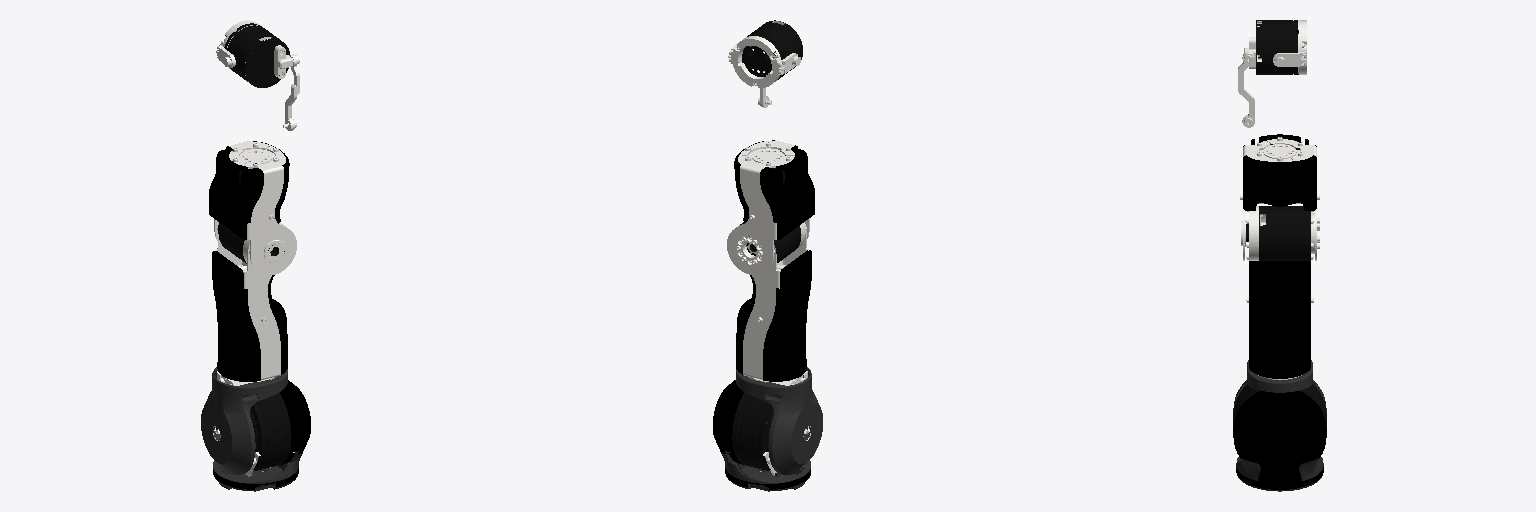
The robot description file, URDF, robot "openarm":
<?xml version="1.0" ?>
<!-- =================================================================================== -->
<!-- |    This document was autogenerated by xacro from v10.urdf.xacro                 | -->
<!-- |    EDITING THIS FILE BY HAND IS NOT RECOMMENDED                                 | -->
<!-- =================================================================================== -->
<robot name="openarm">
  <!-- arm_type: Namespace of the robot arm. Serves to differentiate between arms in case of multiple instances. -->
  <!-- joint_limits: description of the joint limits that comes from a YAML file. Example definition: ${xacro.load_yaml('$(find openarm_description)/robots/fr3/joint_limits.yaml')} -->
  <!-- kinematics: description of the kinematics that comes from a YAML file. Example definition: ${xacro.load_yaml('$(find openarm_description)/robots/fr3/kinematics.yaml')} -->
  <!-- inertials: description of the inertials that comes from a YAML file. Example definition: ${xacro.load_yaml('$(find openarm_description)/robots/fr3/inertials.yaml')} -->
  <link name="base">
      </link>
  <joint name="v10_base_joint" type="fixed">
    <parent link="base"/>
    <child link="v10_link0"/>
    <origin rpy="0 0 0" xyz="0 0 0"/>
  </joint>
  <link name="v10_link0">
    <visual name="v10_link0_visual">
      <origin rpy="0 0 0" xyz="0.0 0.0 0.0"/>
      <geometry>
        <mesh filename="package://openarm_description/meshes/arm/v10/visual/link0.dae" scale="0.001 0.001 0.001"/>
      </geometry>
    </visual>
    <collision name="v10_link0_collision">
      <origin rpy="0 0 0" xyz="0.0 0.0 0.0"/>
      <geometry>
        <mesh filename="package://openarm_description/meshes/arm/v10/collision/link0.stl" scale="0.001 0.001 0.001"/>
      </geometry>
    </collision>
    <inertial>
      <origin rpy="0.0, 0.0, 0.0" xyz="-0.0010128150688448064, 0.00011921310475708836, -0.03180504460041544"/>
      <mass value="1.1999"/>
      <inertia ixx="0.001184" ixy="-5e-06" ixz="-3.5e-05" iyy="0.00101" iyz="-8e-06" izz="0.001542"/>
    </inertial>
  </link>
  <link name="v10_link1">
    <visual name="v10_link1_visual">
      <origin rpy="0 0 0" xyz="6.4e-05 3.9e-05 7.4e-05"/>
      <geometry>
        <mesh filename="package://openarm_description/meshes/arm/v10/visual/link1.dae" scale="0.001 0.001 0.001"/>
      </geometry>
    </visual>
    <collision name="v10_link1_collision">
      <origin rpy="0 0 0" xyz="6.4e-05 3.9e-05 7.4e-05"/>
      <geometry>
        <mesh filename="package://openarm_description/meshes/arm/v10/collision/link1.stl" scale="0.001 0.001 0.001"/>
      </geometry>
    </collision>
    <inertial>
      <origin rpy="0.0, 0.0, 0.0" xyz="-0.0012074754655398907, 3.2777381724620495e-05, 0.05528470264561512"/>
      <mass value="1.1001"/>
      <inertia ixx="0.001407" ixy="-1e-06" ixz="-1.1e-05" iyy="0.001051" iyz="-0.0" izz="0.000834"/>
    </inertial>
  </link>
  <joint name="v10_joint1" type="revolute">
    <origin rpy="0 0 0" xyz="-6.4e-05 -3.9e-05 -7.4e-05"/>
    <parent link="v10_link0"/>
    <child link="v10_link1"/>
    <axis xyz="0 0 1"/>
    <limit effort="100" lower="-1.396263" upper="3.490659" velocity="100"/>
    <!-- <safety_controller k_position="100.0"
                         k_velocity="40.0"
                         soft_lower_limit="${limits.lower}"
                         soft_upper_limit="${limits.upper}" /> -->
  </joint>
  <link name="v10_link2">
    <visual name="v10_link2_visual">
      <origin rpy="0 0 0" xyz="0.030164 7.5e-05 -0.059926"/>
      <geometry>
        <mesh filename="package://openarm_description/meshes/arm/v10/visual/link2.dae" scale="0.001 0.001 0.001"/>
      </geometry>
    </visual>
    <collision name="v10_link2_collision">
      <origin rpy="0 0 0" xyz="0.030164 7.5e-05 -0.059926"/>
      <geometry>
        <mesh filename="package://openarm_description/meshes/arm/v10/collision/link2.stl" scale="0.001 0.001 0.001"/>
      </geometry>
    </collision>
    <inertial>
      <origin rpy="0.0, 0.0, 0.0" xyz="0.01121664780902543, 1.3328249549549094e-05, 0.040881711980061415"/>
      <mass value="0.2518"/>
      <inertia ixx="0.000191" ixy="-0.0" ixz="-6.2e-05" iyy="0.000222" iyz="-0.0" izz="0.000115"/>
    </inertial>
  </link>
  <joint name="v10_joint2" type="revolute">
    <origin rpy="0 0 0" xyz="-0.0301 -3.6e-05 0.06"/>
    <parent link="v10_link1"/>
    <child link="v10_link2"/>
    <axis xyz="-1 0 0"/>
    <limit effort="100" lower="-0.17453267320510335" upper="3.3161253267948965" velocity="100"/>
    <!-- <safety_controller k_position="100.0"
                         k_velocity="40.0"
                         soft_lower_limit="${limits.lower}"
                         soft_upper_limit="${limits.upper}" /> -->
  </joint>
  <link name="v10_link3">
    <visual name="v10_link3_visual">
      <origin rpy="0 0 0" xyz="6.4e-05 3.9e-05 -0.126176"/>
      <geometry>
        <mesh filename="package://openarm_description/meshes/arm/v10/visual/link3.dae" scale="0.001 0.001 0.001"/>
      </geometry>
    </visual>
    <collision name="v10_link3_collision">
      <origin rpy="0 0 0" xyz="6.4e-05 3.9e-05 -0.126176"/>
      <geometry>
        <mesh filename="package://openarm_description/meshes/arm/v10/collision/link3.stl" scale="0.001 0.001 0.001"/>
      </geometry>
    </collision>
    <inertial>
      <origin rpy="0.0, 0.0, 0.0" xyz="-0.0007615058947238776, 0.0008537439948917441, 0.09243691252183486"/>
      <mass value="0.8795"/>
      <inertia ixx="0.003872" ixy="0.0" ixz="8e-06" iyy="0.003785" iyz="-4.3e-05" izz="0.000459"/>
    </inertial>
  </link>
  <joint name="v10_joint3" type="revolute">
    <origin rpy="0 0 0" xyz="0.0301 3.6e-05 0.06625"/>
    <parent link="v10_link2"/>
    <child link="v10_link3"/>
    <axis xyz="0 0 1"/>
    <limit effort="100" lower="-1.570796" upper="1.570796" velocity="100"/>
    <!-- <safety_controller k_position="100.0"
                         k_velocity="40.0"
                         soft_lower_limit="${limits.lower}"
                         soft_upper_limit="${limits.upper}" /> -->
  </joint>
  <link name="v10_link4">
    <visual name="v10_link4_visual">
      <origin rpy="0 0 0" xyz="0.000103 -0.031461 -0.279926"/>
      <geometry>
        <mesh filename="package://openarm_description/meshes/arm/v10/visual/link4.dae" scale="0.001 0.001 0.001"/>
      </geometry>
    </visual>
    <collision name="v10_link4_collision">
      <origin rpy="0 0 0" xyz="0.000103 -0.031461 -0.279926"/>
      <geometry>
        <mesh filename="package://openarm_description/meshes/arm/v10/collision/link4.stl" scale="0.001 0.001 0.001"/>
      </geometry>
    </collision>
    <inertial>
      <origin rpy="0.0, 0.0, 0.0" xyz="-0.0013357751355886956, -0.030369405447056, 0.06320013521798368"/>
      <mass value="0.5099"/>
      <inertia ixx="0.000623" ixy="-1e-06" ixz="-1.9e-05" iyy="0.000511" iyz="3.8e-05" izz="0.000334"/>
    </inertial>
  </link>
  <joint name="v10_joint4" type="revolute">
    <origin rpy="0 0 0" xyz="-3.9e-05 0.0315 0.15375"/>
    <parent link="v10_link3"/>
    <child link="v10_link4"/>
    <axis xyz="0 1 0"/>
    <limit effort="100" lower="0.0" upper="2.443461" velocity="100"/>
    <!-- <safety_controller k_position="100.0"
                         k_velocity="40.0"
                         soft_lower_limit="${limits.lower}"
                         soft_upper_limit="${limits.upper}" /> -->
  </joint>
  <link name="v10_link5">
    <visual name="v10_link5_visual">
      <origin rpy="0 0 0" xyz="6.4e-05 3.9e-05 -0.375426"/>
      <geometry>
        <mesh filename="package://openarm_description/meshes/arm/v10/visual/link5.dae" scale="0.001 0.001 0.001"/>
      </geometry>
    </visual>
    <collision name="v10_link5_collision">
      <origin rpy="0 0 0" xyz="6.4e-05 3.9e-05 -0.375426"/>
      <geometry>
        <mesh filename="package://openarm_description/meshes/arm/v10/collision/link5.stl" scale="0.001 0.001 0.001"/>
      </geometry>
    </collision>
    <inertial>
      <origin rpy="0.0, 0.0, 0.0" xyz="-0.0021201729515073105, -0.00062709480879269, 0.04528877679278359"/>
      <mass value="0.49"/>
      <inertia ixx="0.000352" ixy="1.2e-05" ixz="-1.4e-05" iyy="0.000379" iyz="1.5e-05" izz="0.000234"/>
    </inertial>
  </link>
  <joint name="v10_joint5" type="revolute">
    <origin rpy="0 0 0" xyz="3.9e-05 -0.0315 0.0955"/>
    <parent link="v10_link4"/>
    <child link="v10_link5"/>
    <axis xyz="0 0 1"/>
    <limit effort="100" lower="-1.570796" upper="1.570796" velocity="100"/>
    <!-- <safety_controller k_position="100.0"
                         k_velocity="40.0"
                         soft_lower_limit="${limits.lower}"
                         soft_upper_limit="${limits.upper}" /> -->
  </joint>
  <link name="v10_link6">
    <visual name="v10_link6_visual">
      <origin rpy="0 0 0" xyz="-0.037436 -7e-06 -0.495926"/>
      <geometry>
        <mesh filename="package://openarm_description/meshes/arm/v10/visual/link6.dae" scale="0.001 0.001 0.001"/>
      </geometry>
    </visual>
    <collision name="v10_link6_collision">
      <origin rpy="0 0 0" xyz="-0.037436 -7e-06 -0.495926"/>
      <geometry>
        <mesh filename="package://openarm_description/meshes/arm/v10/collision/link6.stl" scale="0.001 0.001 0.001"/>
      </geometry>
    </collision>
    <inertial>
      <origin rpy="0.0, 0.0, 0.0" xyz="-0.03713023470335729, 0.00035983890089288836, -8.108153514163607e-05"/>
      <mass value="0.3594"/>
      <inertia ixx="0.000146" ixy="4e-06" ixz="-0.0" iyy="0.000159" iyz="1e-06" izz="0.000162"/>
    </inertial>
  </link>
  <joint name="v10_joint6" type="revolute">
    <origin rpy="0 0 0" xyz="0.0375 4.6e-05 0.1205"/>
    <parent link="v10_link5"/>
    <child link="v10_link6"/>
    <axis xyz="1 0 0"/>
    <limit effort="100" lower="-0.785398" upper="0.785398" velocity="100"/>
    <!-- <safety_controller k_position="100.0"
                         k_velocity="40.0"
                         soft_lower_limit="${limits.lower}"
                         soft_upper_limit="${limits.upper}" /> -->
  </joint>
  <link name="v10_link7">
    <visual name="v10_link7_visual">
      <origin rpy="0 0 0" xyz="8.9e-05 -0.020461 -0.495926"/>
      <geometry>
        <mesh filename="package://openarm_description/meshes/arm/v10/visual/link7.dae" scale="0.001 0.001 0.001"/>
      </geometry>
    </visual>
    <collision name="v10_link7_collision">
      <origin rpy="0 0 0" xyz="8.9e-05 -0.020461 -0.495926"/>
      <geometry>
        <mesh filename="package://openarm_description/meshes/arm/v10/collision/link7.stl" scale="0.001 0.001 0.001"/>
      </geometry>
    </collision>
    <inertial>
      <origin rpy="0.0, 0.0, 0.0" xyz="-4.621208532881523e-05, -0.014878395014230248, 0.1108487501579852"/>
      <mass value="1.0519"/>
      <inertia ixx="0.000541" ixy="0.0" ixz="-1e-06" iyy="0.000436" iyz="6.2e-05" izz="0.000282"/>
    </inertial>
  </link>
  <joint name="v10_joint7" type="revolute">
    <origin rpy="0 0 0" xyz="-0.037525 0.020454 0.0"/>
    <parent link="v10_link6"/>
    <child link="v10_link7"/>
    <axis xyz="0 1 0"/>
    <limit effort="100" lower="-1.570796" upper="1.570796" velocity="100"/>
    <!-- <safety_controller k_position="100.0"
                         k_velocity="40.0"
                         soft_lower_limit="${limits.lower}"
                         soft_upper_limit="${limits.upper}" /> -->
  </joint>
  <link name="v10_link8"/>
  <joint name="v10_joint8" type="fixed">
    <origin rpy="0 0 0" xyz="0.0 0.0 0.0"/>
    <parent link="v10_link7"/>
    <child link="v10_link8"/>
  </joint>
</robot>

--- Render facts (derived) ---
The picture shows the robot from 3 angles, left to right: view 1: azimuth 30°, elevation 25°; view 2: azimuth 150°, elevation 25°; view 3: azimuth 270°, elevation 25°; orthographic projection.
Robot: openarm — 10 links, 9 joints (7 revolute, 2 fixed); root link base; default pose: all joints at 0.
Links seen in each view (by area): view 1: v10_link3, v10_link4, v10_link1, v10_link2, v10_link6, v10_link7; view 2: v10_link3, v10_link4, v10_link1, v10_link2, v10_link6; view 3: v10_link3, v10_link1, v10_link4, v10_link6, v10_link2, v10_link7.
Boxes of the visible links, x1,y1,x2,y2 form: v10_link3: (212, 222, 287, 381); v10_link4: (209, 141, 296, 275); v10_link1: (213, 380, 310, 491); v10_link2: (201, 367, 287, 474); v10_link6: (216, 20, 292, 87); v10_link7: (283, 54, 299, 130); v10_link3: (736, 222, 811, 381); v10_link4: (727, 140, 814, 274); v10_link1: (713, 380, 810, 491); v10_link2: (736, 367, 822, 474); v10_link6: (728, 20, 802, 87); v10_link3: (1241, 206, 1313, 379); v10_link1: (1233, 384, 1326, 491); v10_link4: (1240, 134, 1319, 260); v10_link6: (1244, 20, 1306, 74); v10_link2: (1233, 360, 1326, 412); v10_link7: (1238, 52, 1254, 127).
Size in the robot's own frame: 0.0974 by 0.098 by 0.53 metres.
6 mesh visuals loaded from 8 distinct referenced files (6 Collada DAE); not drawn: 2 (reference not matched to a file when rendering).